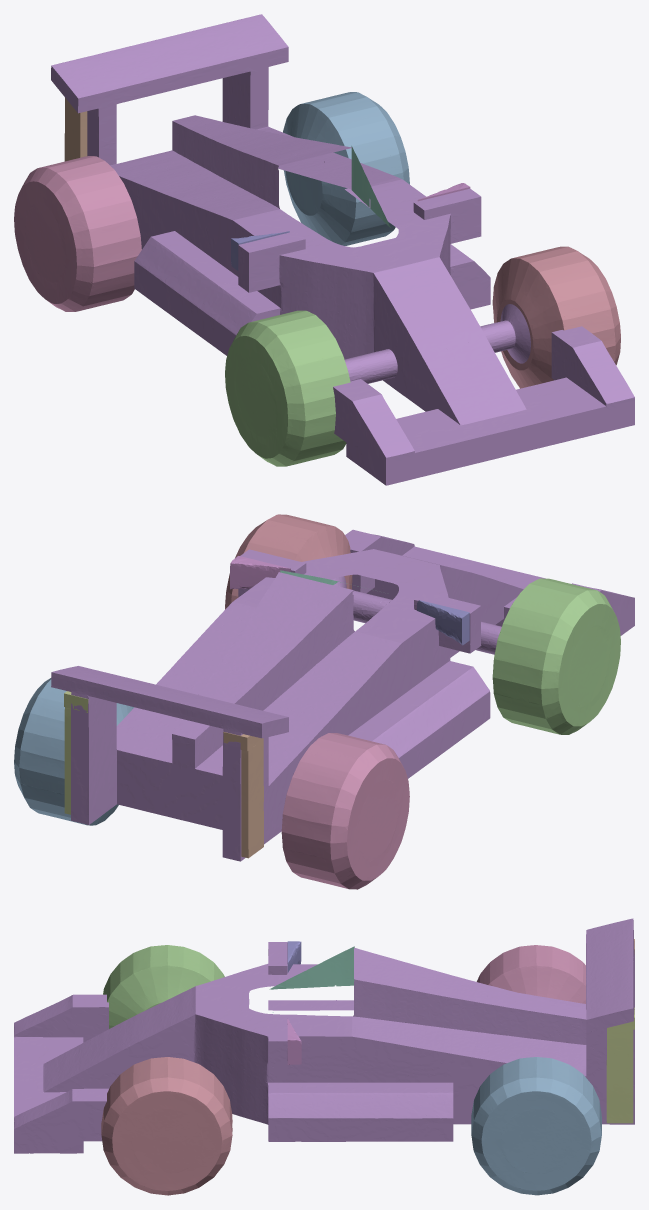
The model's file is sofa.glb.
The picture shows the model from 3 angles, top to bottom: view 1: azimuth 30°, elevation 25°; view 2: azimuth 150°, elevation 25°; view 3: azimuth 270°, elevation 25°; orthographic projection. The views are drawn at different scales.
Parts seen in each view (by area): view 1: part2, part5, part6, part12, part13, part8, part9; view 2: part2, part6, part5, part12, part13, part8, part7, part10, part11; view 3: part2, part13, part12, part6, part5, part11, part9, part10.
Part boxes in pixels (box(x1,y1,x2,y2)): part2: box(51, 14, 634, 485); part5: box(14, 156, 141, 311); part6: box(225, 310, 350, 466); part12: box(283, 92, 409, 245); part13: box(492, 246, 620, 388); part8: box(64, 98, 87, 161); part9: box(351, 146, 390, 227); part2: box(51, 529, 634, 861); part6: box(492, 578, 620, 734); part5: box(281, 733, 409, 889); part12: box(14, 678, 133, 825); part13: box(225, 514, 352, 609); part8: box(223, 732, 263, 858); part7: box(417, 600, 469, 645); part10: box(230, 556, 290, 589); part11: box(64, 691, 88, 814); part2: box(14, 918, 634, 1153); part13: box(101, 1057, 232, 1195); part12: box(471, 1057, 601, 1195); part6: box(103, 945, 224, 1028); part5: box(476, 945, 585, 1003); part11: box(606, 1007, 634, 1123); part9: box(269, 946, 354, 1012); part10: box(287, 1018, 301, 1064).
Size of the model in its own units: 0.5426 by 0.2987 by 1.
